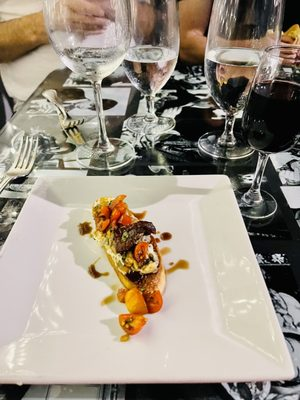burger: (0, 132, 41, 198)
